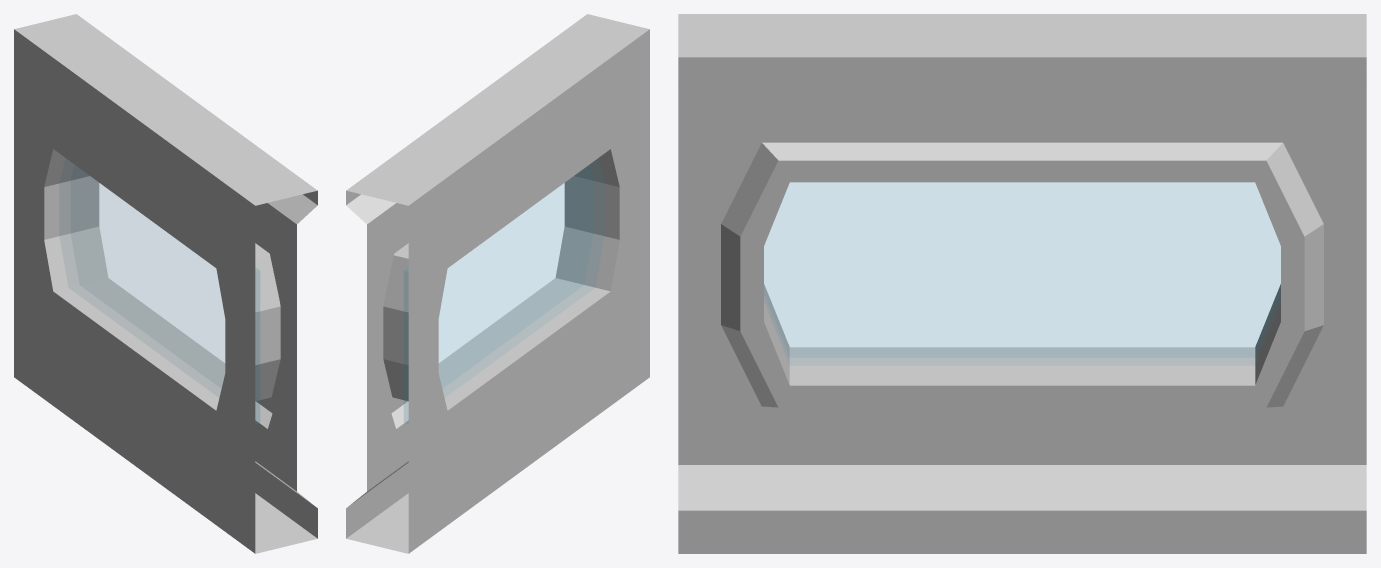
The model's file is 10Window.fbx.
The picture shows the model from 3 angles, left to right: view 1: azimuth 30°, elevation 25°; view 2: azimuth 150°, elevation 25°; view 3: azimuth 270°, elevation 25°; orthographic projection. The views are drawn at different scales.
Visible parts, largest first — view 1: 10Window, Window; view 2: 10Window, Window; view 3: 10Window, Window.
Part boxes in pixels (left/top/right/bottom): 10Window: left=14, top=14, right=317, bottom=553; Window: left=71, top=165, right=259, bottom=423; 10Window: left=346, top=14, right=649, bottom=553; Window: left=404, top=165, right=592, bottom=423; 10Window: left=678, top=14, right=1366, bottom=553; Window: left=764, top=183, right=1280, bottom=357.
Size of the model in its own units: 300 by 1600 by 2010.
